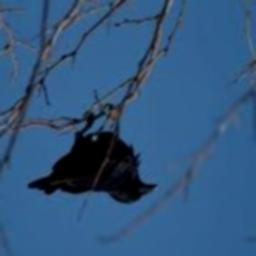Crow: (29, 112, 160, 205)
